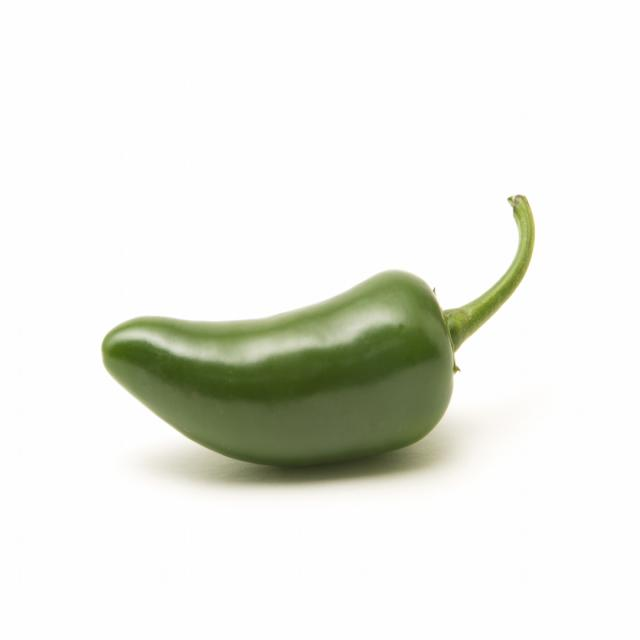aji: (102, 250, 545, 480)
